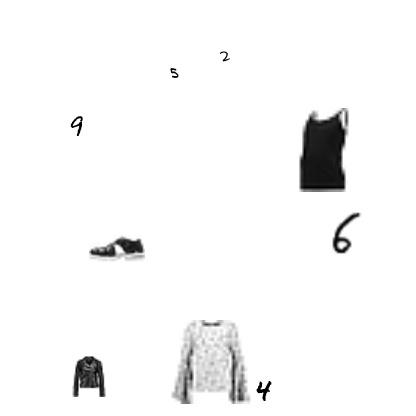2: (218, 49, 232, 63)
4: (249, 375, 277, 403)
5: (167, 66, 181, 80)
6: (315, 207, 371, 263)
9: (63, 110, 91, 138)
Coat: (68, 355, 110, 397)
Sandal: (89, 219, 145, 275)
Shirt: (169, 320, 253, 404)
T-shirt/top: (282, 108, 366, 192)
